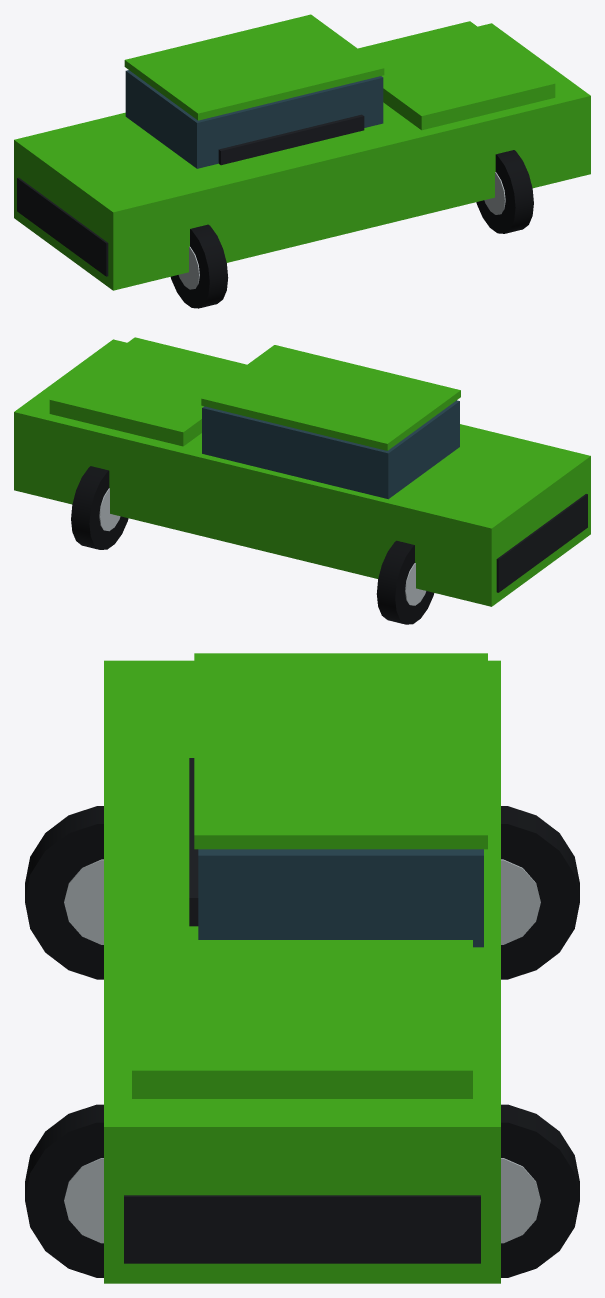
File: chevy_c_k_legacy_truck.glb
The picture shows the model from 3 angles, top to bottom: view 1: azimuth 30°, elevation 25°; view 2: azimuth 150°, elevation 25°; view 3: azimuth 270°, elevation 25°; orthographic projection. The views are drawn at different scales.
Parts seen in each view (by area): view 1: body, roof, hood, cabin, rear_bumper, front_right_wheel, rear_right_wheel, interior; view 2: body, roof, cabin, hood, rear_bumper, front_left_wheel, rear_left_wheel; view 3: body, roof, hood, cabin, front_bumper, rear_left_wheel, rear_right_wheel, front_left_wheel, front_right_wheel, interior.
Part boxes in pixels (x1,y1,x2,y2): body: (14,23,590,290); roof: (124,14,384,120); hood: (358,21,555,130); cabin: (125,70,383,168); rear_bumper: (17,177,108,276); front_right_wheel: (476,150,533,233); rear_right_wheel: (170,224,228,308); interior: (218,114,364,165); body: (14,339,590,606); roof: (201,345,460,450); cabin: (202,400,459,499); hood: (49,337,246,446); rear_bumper: (496,494,587,592); front_left_wheel: (71,466,128,549); rear_left_wheel: (376,540,434,624); body: (104,660,500,1283); roof: (194,653,487,849); hood: (132,940,472,1098); cabin: (198,849,483,947); front_bumper: (124,1195,480,1263); rear_left_wheel: (501,806,579,979); rear_right_wheel: (25,806,103,979); front_left_wheel: (501,1104,579,1277); front_right_wheel: (25,1104,103,1277); interior: (189,758,198,926).
Bounding box in the file's own units: 5.75 × 1.93 × 2.87.
